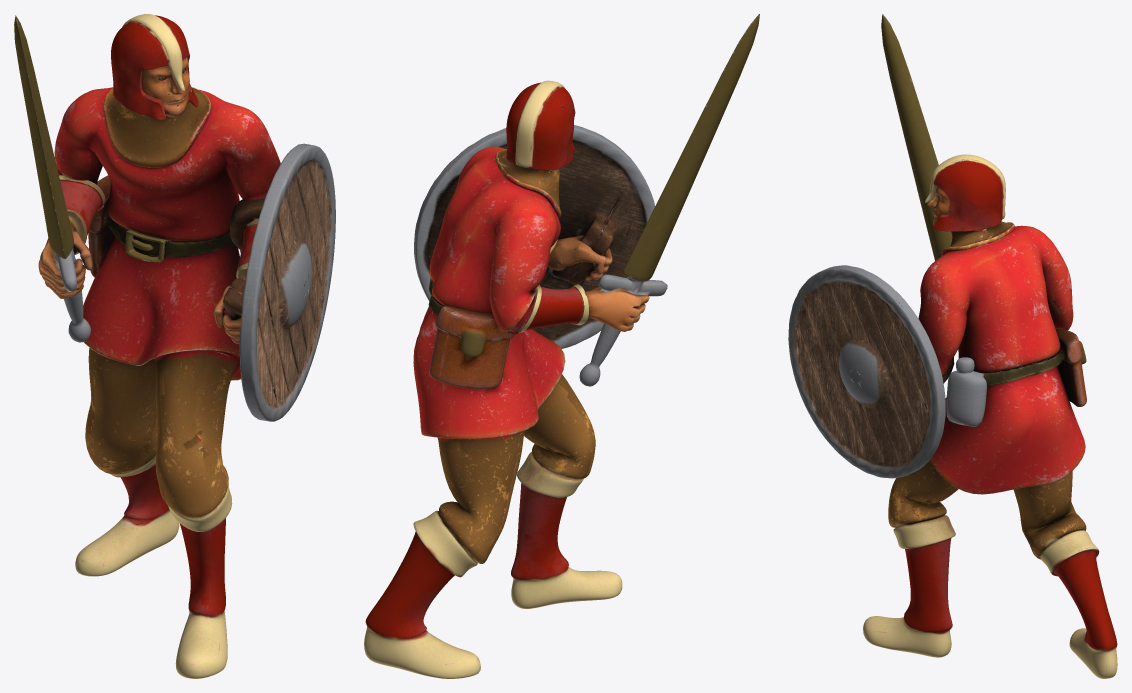
The model's file is MZ4250 - Veteran.glb.
3 renders of one model, left to right at view 1: azimuth 30°, elevation 25°; view 2: azimuth 150°, elevation 25°; view 3: azimuth 270°, elevation 25°, orthographic. The views are drawn at different scales.
Visible parts, largest first — view 1: default; view 2: default; view 3: default.
Boxes of the visible parts, <box> form: default: <box>14,14,335,678</box>; default: <box>364,14,759,678</box>; default: <box>788,14,1117,678</box>.
Size of the model in its own units: 0.639 by 1.2 by 0.6477.
Materials: 1 (1 with a texture image).
